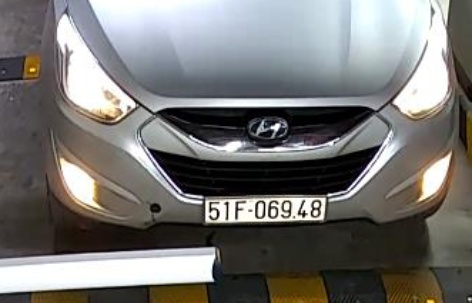plate: (205, 184, 331, 226)
